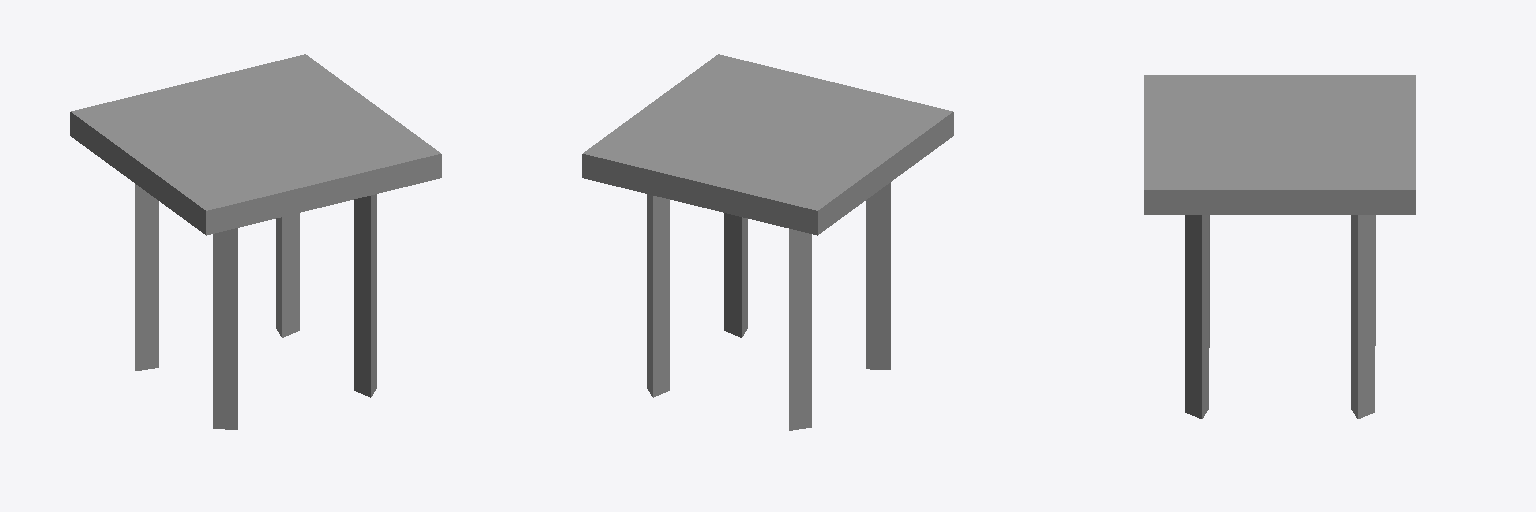
3 renders of one model, left to right at view 1: azimuth 30°, elevation 25°; view 2: azimuth 150°, elevation 25°; view 3: azimuth 270°, elevation 25°, orthographic.
Visible parts, largest first — view 1: Stool; view 2: Stool; view 3: Stool.
Boxes of the visible parts, <box> form: Stool: <box>70,54,441,429</box>; Stool: <box>582,54,953,430</box>; Stool: <box>1144,75,1415,418</box>.
Size of the model in its own units: 0.6 by 0.6015 by 0.6.